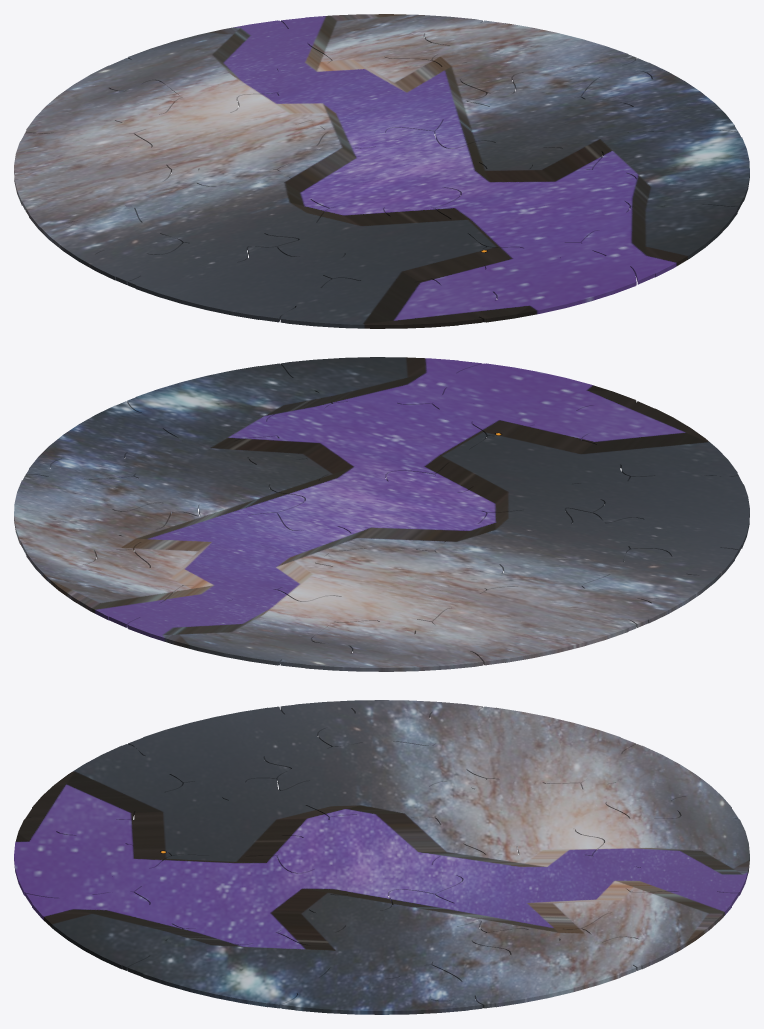
File: Floor_Puzzle_Round_00.fbx
3 renders of one model, top to bottom at view 1: azimuth 30°, elevation 25°; view 2: azimuth 150°, elevation 25°; view 3: azimuth 270°, elevation 25°, orthographic.
Visible parts, largest first — view 1: Plane.014, Plane.018, Plane.012, Plane.016, Plane.001, Plane.009, Plane.017, Plane.005, Plane.007, Plane.015, Plane.013, Plane.003 (+7 smaller); view 2: Plane.014, Plane.018, Plane.016, Plane.009, Plane.012, Plane.011, Plane.001, Plane.017, Plane.015, Plane.005, Plane.007, Plane.013 (+7 smaller); view 3: Plane.014, Plane.018, Plane.016, Plane.012, Plane.017, Plane.009, Plane.005, Plane.007, Plane.001, Plane.011, Plane.015, Plane.013 (+7 smaller).
Boxes of the visible parts, x1,y1,x2,y2 form: Plane.014: (419, 147, 643, 264); Plane.018: (259, 42, 492, 148); Plane.012: (103, 167, 351, 262); Plane.016: (271, 127, 496, 226); Plane.001: (92, 242, 344, 322); Plane.009: (102, 20, 345, 114); Plane.017: (114, 93, 328, 186); Plane.005: (568, 130, 749, 223); Plane.007: (424, 20, 651, 97); Plane.015: (264, 205, 486, 283); Plane.013: (435, 73, 636, 171); Plane.003: (432, 242, 636, 322); Plane.014: (248, 383, 509, 492); Plane.018: (111, 498, 349, 601); Plane.016: (270, 471, 506, 567); Plane.009: (112, 584, 353, 665); Plane.012: (411, 508, 643, 607); Plane.011: (407, 586, 650, 665); Plane.001: (561, 475, 749, 575); Plane.017: (278, 548, 502, 634); Plane.015: (435, 424, 629, 528); Plane.005: (127, 363, 349, 459); Plane.007: (14, 457, 170, 565); Plane.013: (105, 436, 328, 516); Plane.014: (104, 835, 352, 944); Plane.018: (427, 837, 654, 946); Plane.016: (263, 815, 503, 911); Plane.012: (264, 741, 497, 839); Plane.017: (426, 764, 633, 856); Plane.009: (575, 796, 749, 911); Plane.005: (127, 926, 357, 1008); Plane.007: (420, 928, 649, 1008); Plane.001: (128, 704, 354, 801); Plane.011: (430, 706, 660, 785); Plane.015: (117, 778, 334, 858); Plane.013: (278, 889, 510, 979).
Size of the model in its own units: 545 by 3.1 by 545.
